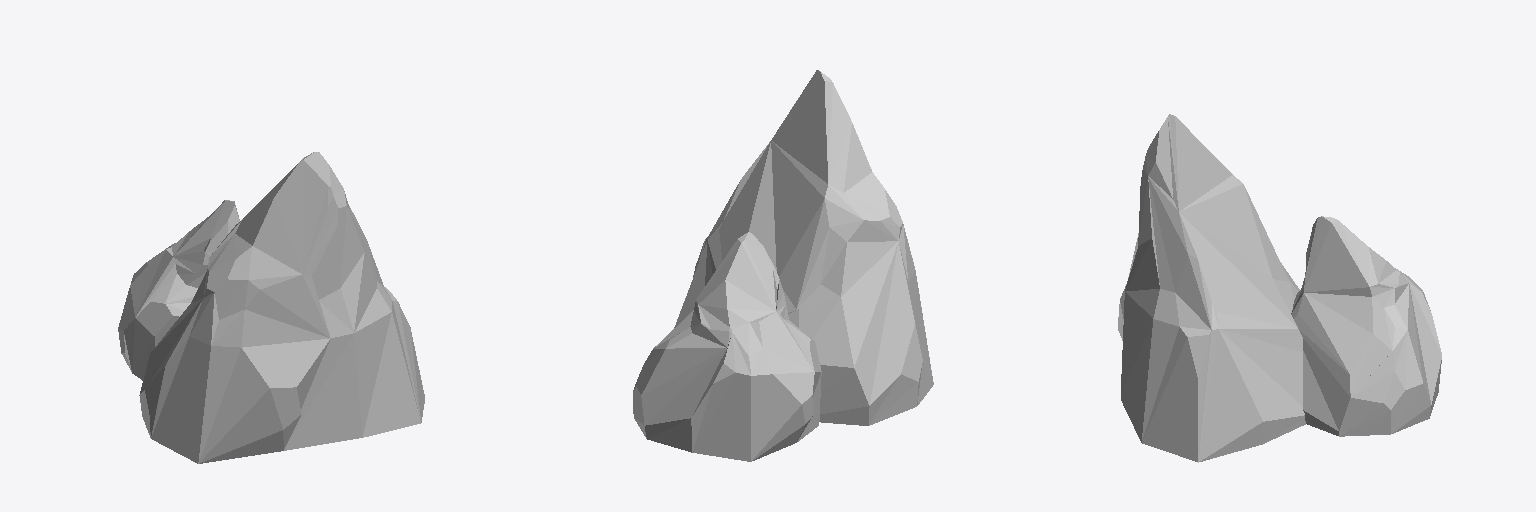
Rendered from Rocks_1.obj.
3 views of the same model, side by side, from view 1: azimuth 30°, elevation 25°; view 2: azimuth 150°, elevation 25°; view 3: azimuth 270°, elevation 25° (orthographic).
Parts seen in each view (by area): view 1: Rocks_1; view 2: Rocks_1; view 3: Rocks_1.
Part boxes in pixels (left/top/right/bottom): Rocks_1: left=118, top=152, right=424, bottom=463; Rocks_1: left=633, top=70, right=933, bottom=461; Rocks_1: left=1118, top=114, right=1441, bottom=462.
Size of the model in its own units: 2.58 by 2.77 by 2.83.